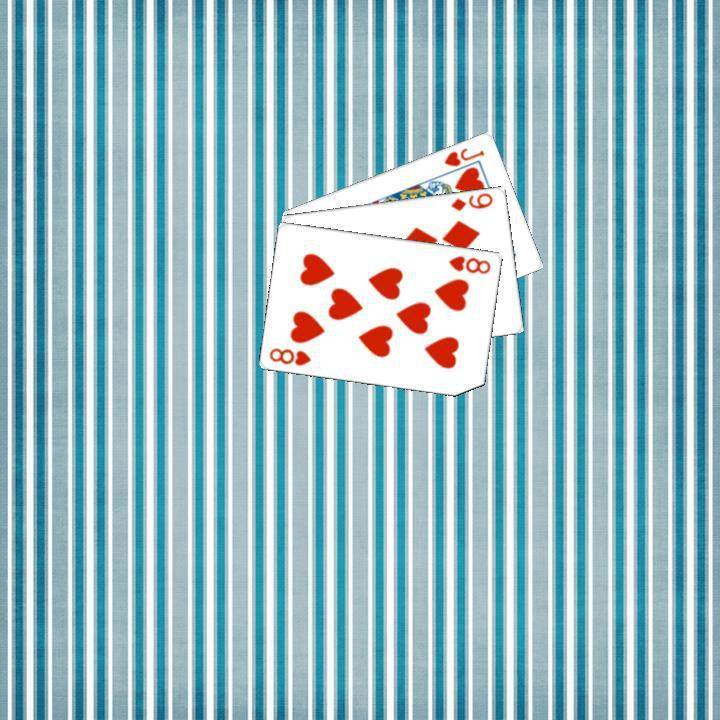8: (445, 251, 493, 276), (265, 343, 313, 368)
9: (447, 189, 495, 213)
J: (440, 143, 486, 168)
